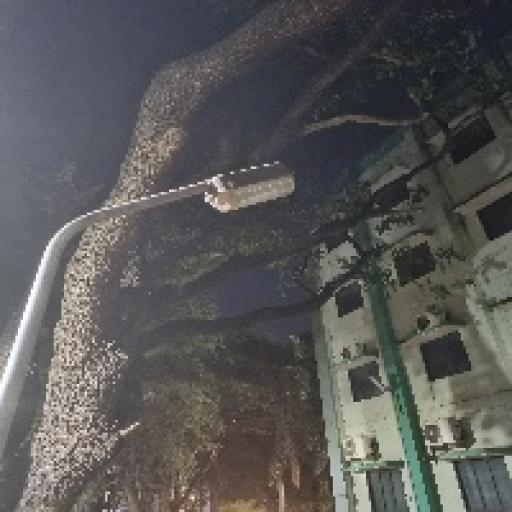Not Working: (178, 152, 304, 226)
